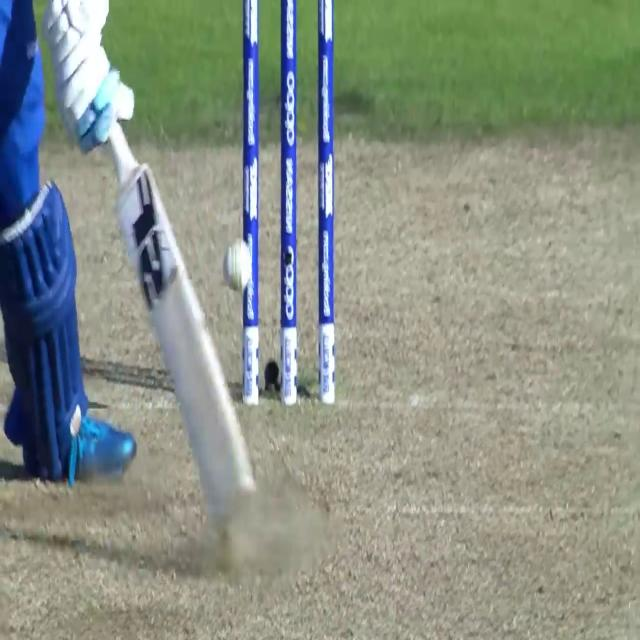ball: (218, 223, 254, 302)
